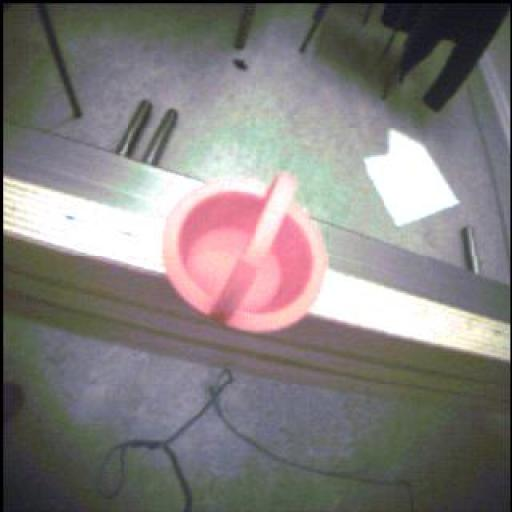Bucket: (160, 166, 333, 342)
